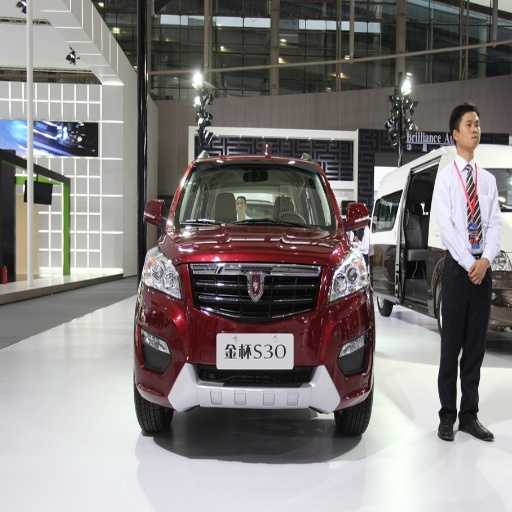front_bumper: (133, 264, 372, 414)
front_right_light: (143, 249, 184, 301)
hood: (163, 223, 347, 267)
